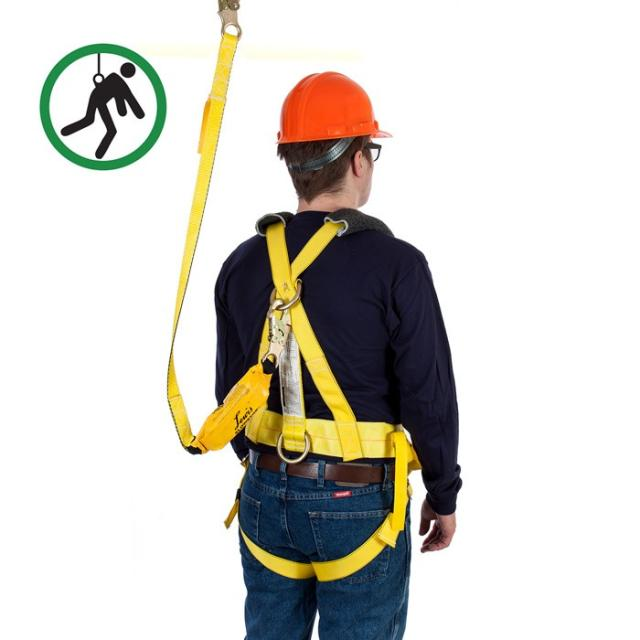harness: (162, 0, 292, 458)
